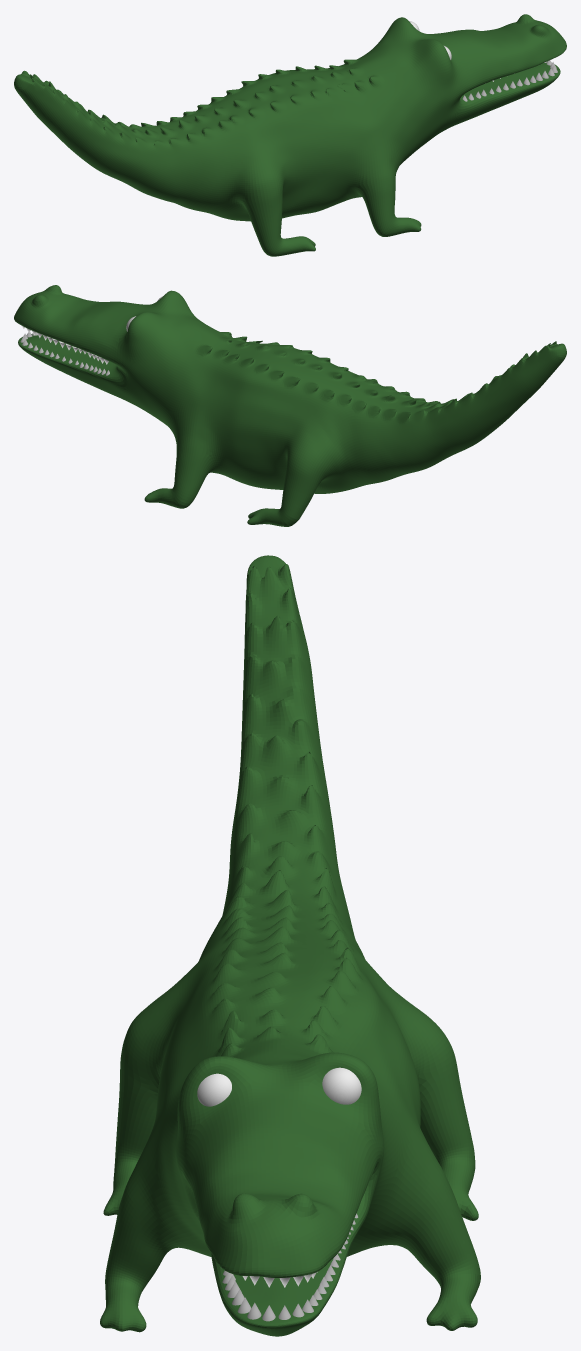
The picture shows the model from 3 angles, top to bottom: view 1: azimuth 30°, elevation 25°; view 2: azimuth 150°, elevation 25°; view 3: azimuth 270°, elevation 25°; orthographic projection. The views are drawn at different scales.
Visible parts, largest first — view 1: Merged_ja:Group18314; view 2: Merged_ja:Group18314; view 3: Merged_ja:Group18314, Merged_ja:Group37943.
Part boxes in pixels (left/top/right/bottom): Merged_ja:Group18314: left=14, top=14, right=566, bottom=256; Merged_ja:Group18314: left=14, top=285, right=566, bottom=526; Merged_ja:Group18314: left=100, top=555, right=480, bottom=1336; Merged_ja:Group37943: left=322, top=1067, right=361, bottom=1104.
Size of the model in its own units: 11.61 by 4.33 by 3.51.
